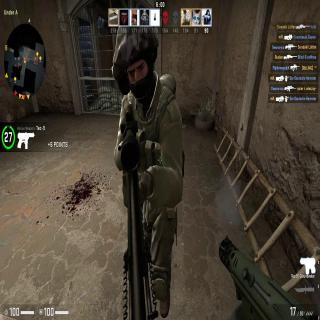CT-Body: (112, 22, 192, 316)
CT-Head: (116, 27, 163, 94)
